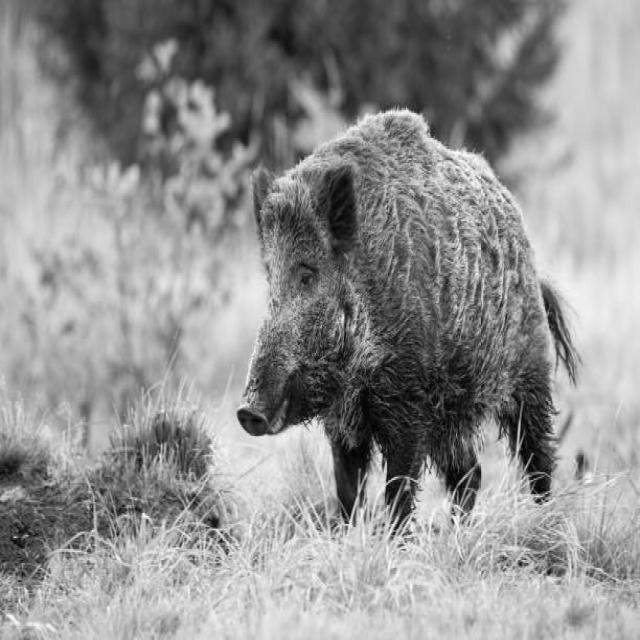boar: (236, 108, 574, 518)
